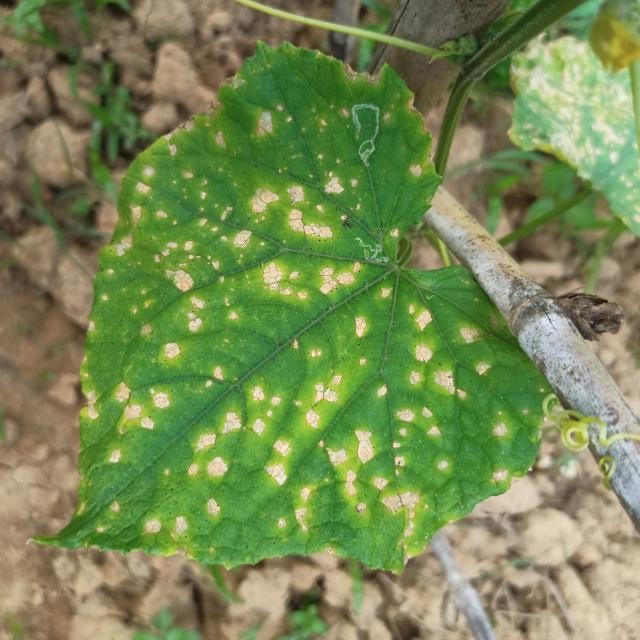disease_cucumber: (97, 77, 500, 559)
